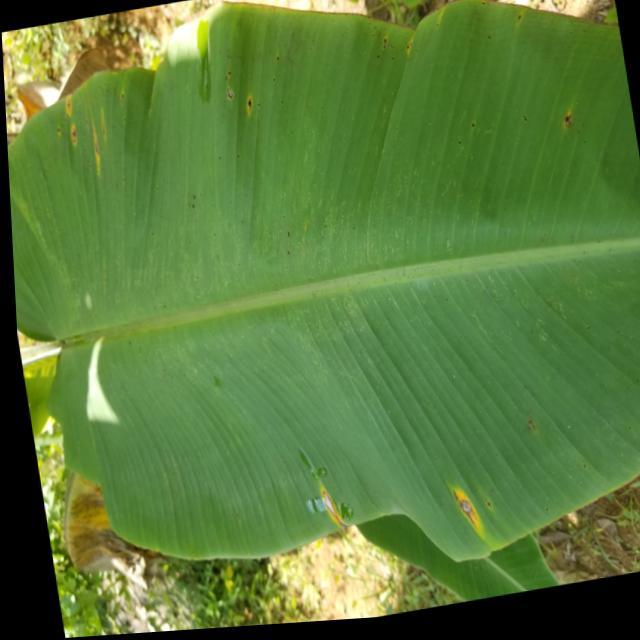Early_rust: (44, 453, 169, 591), (28, 50, 133, 212), (186, 54, 293, 142), (290, 458, 360, 549), (540, 88, 592, 153), (374, 23, 440, 71)
